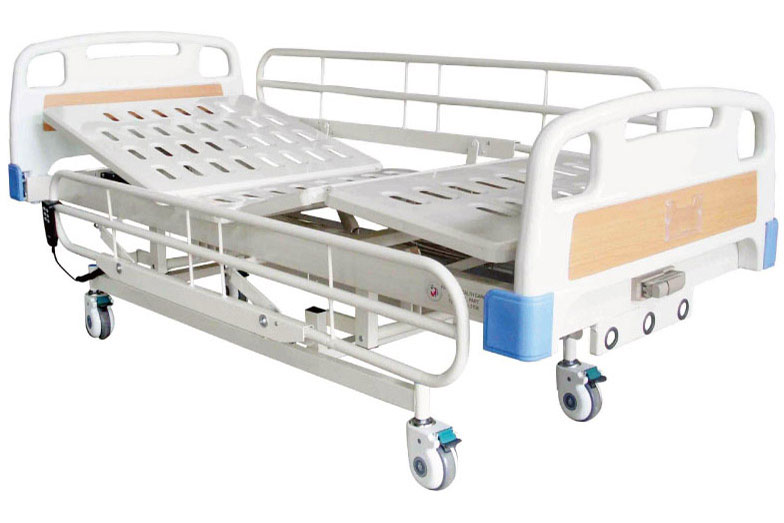trolley_bed: (7, 25, 781, 494)
